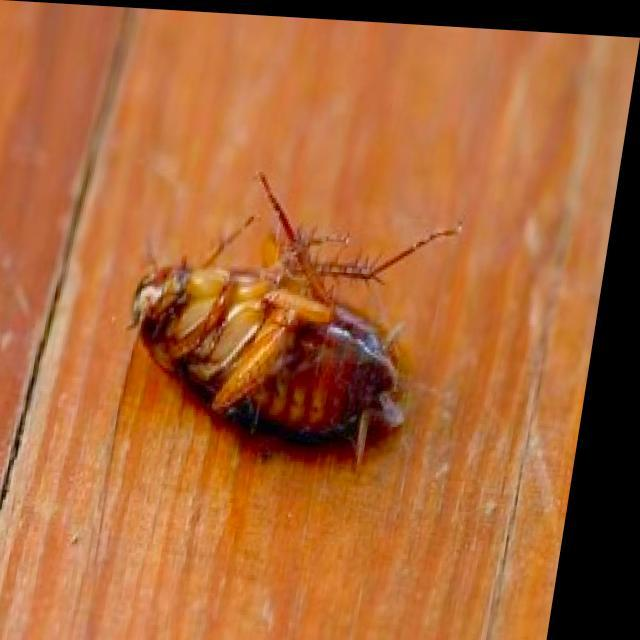cockroach: (124, 167, 468, 470)
